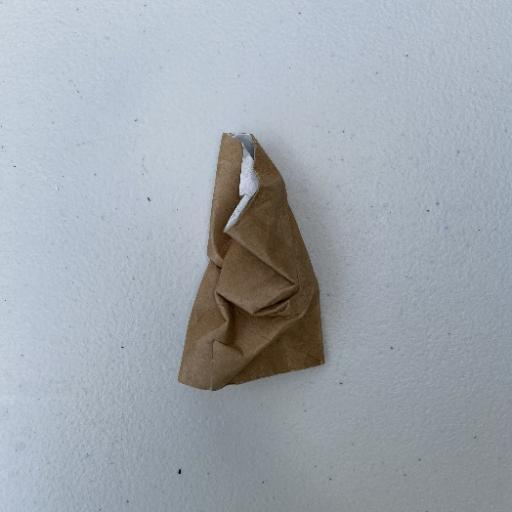Cardboard: (176, 131, 326, 392)
